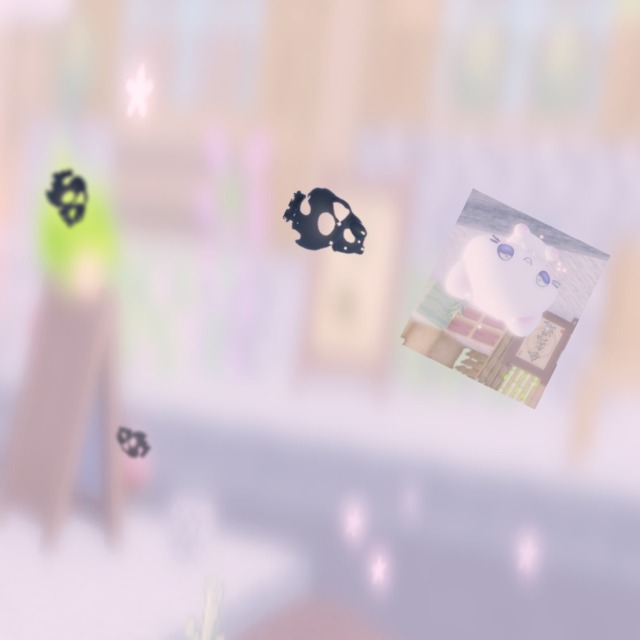urso_branco: (397, 188, 611, 410)
urso_preto: (272, 174, 388, 280), (37, 165, 100, 236), (106, 417, 157, 465)
